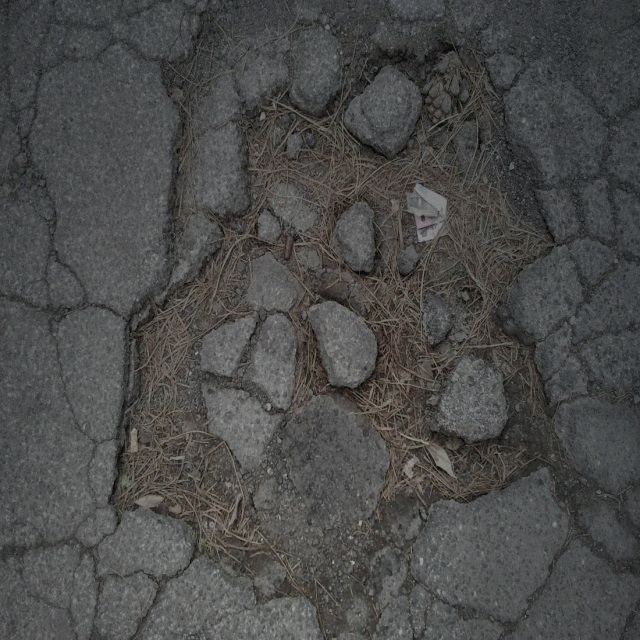pothole: (92, 37, 558, 566)
